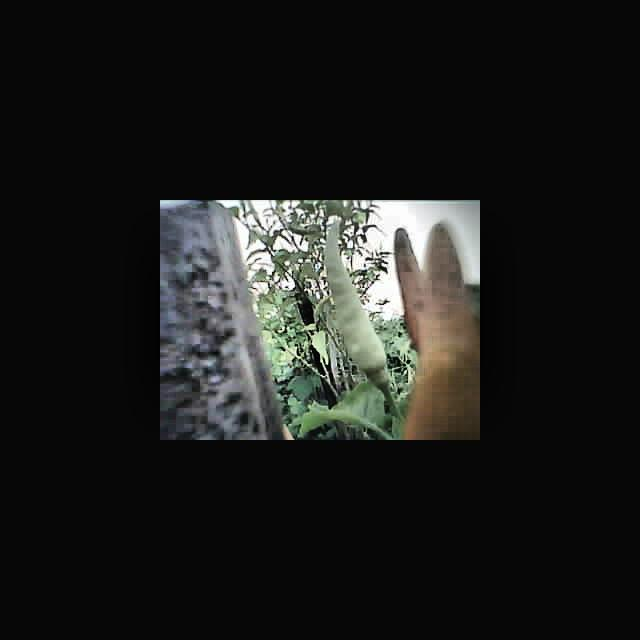Cabai: (396, 224, 480, 440)
